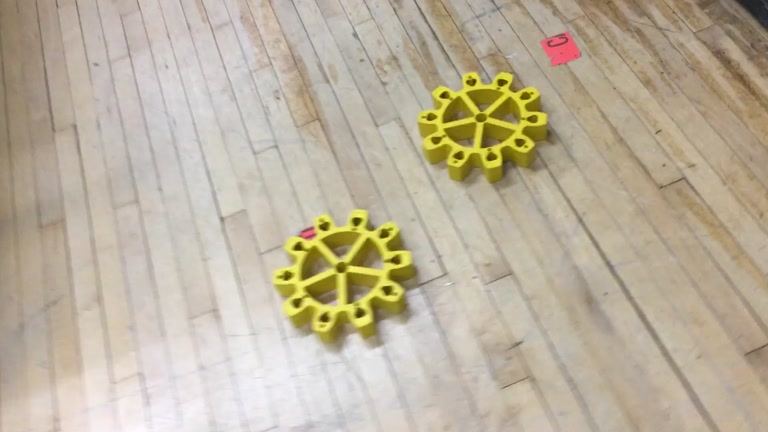gear: (271, 210, 411, 346), (416, 71, 547, 185)
